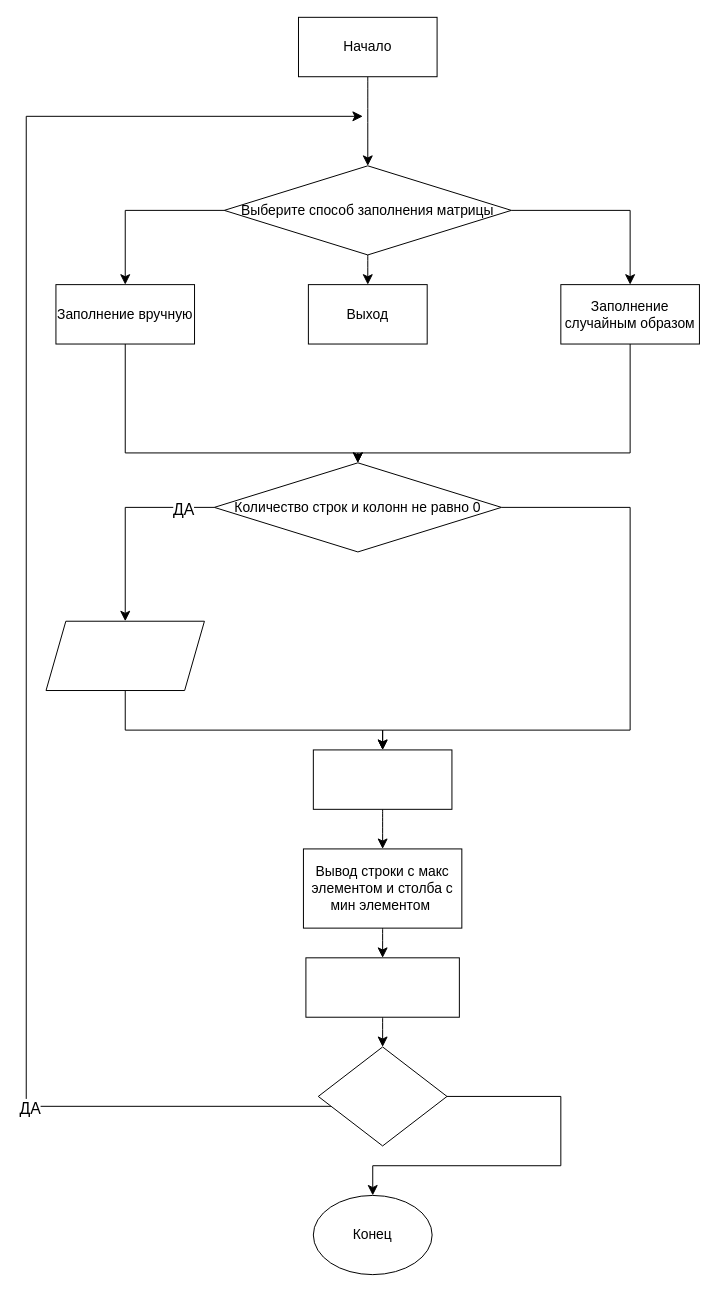
Image size: 717x1292. Some labels were removed from this diagram. The shapes that lost their labels are listed below. From the top down, each one's centre as x and y in pixels, then its label:
At (124,655): "Создание массива с заполненными данными".
At (382,779): "Вывод матрицы с числами".
At (382,987): "Вывод скалярного произведения".
At (382,1096): "Продолжить работу?".
